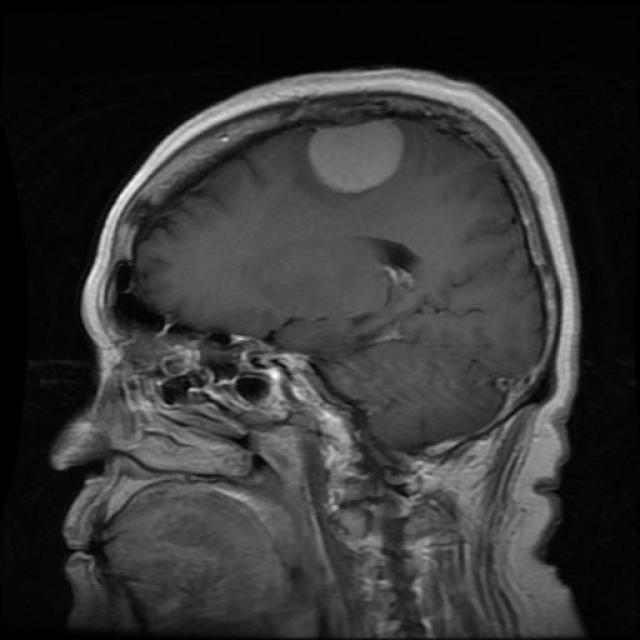meningioma: (309, 121, 405, 194)
